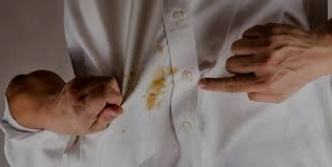coffee: (146, 67, 169, 112)
